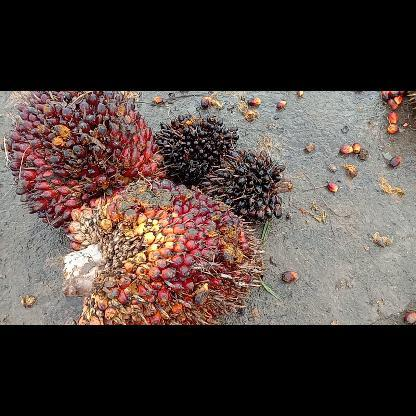TBS abnormal: (199, 146, 295, 220), (152, 112, 242, 186)
TBS masak: (60, 174, 268, 324), (0, 90, 168, 233)
